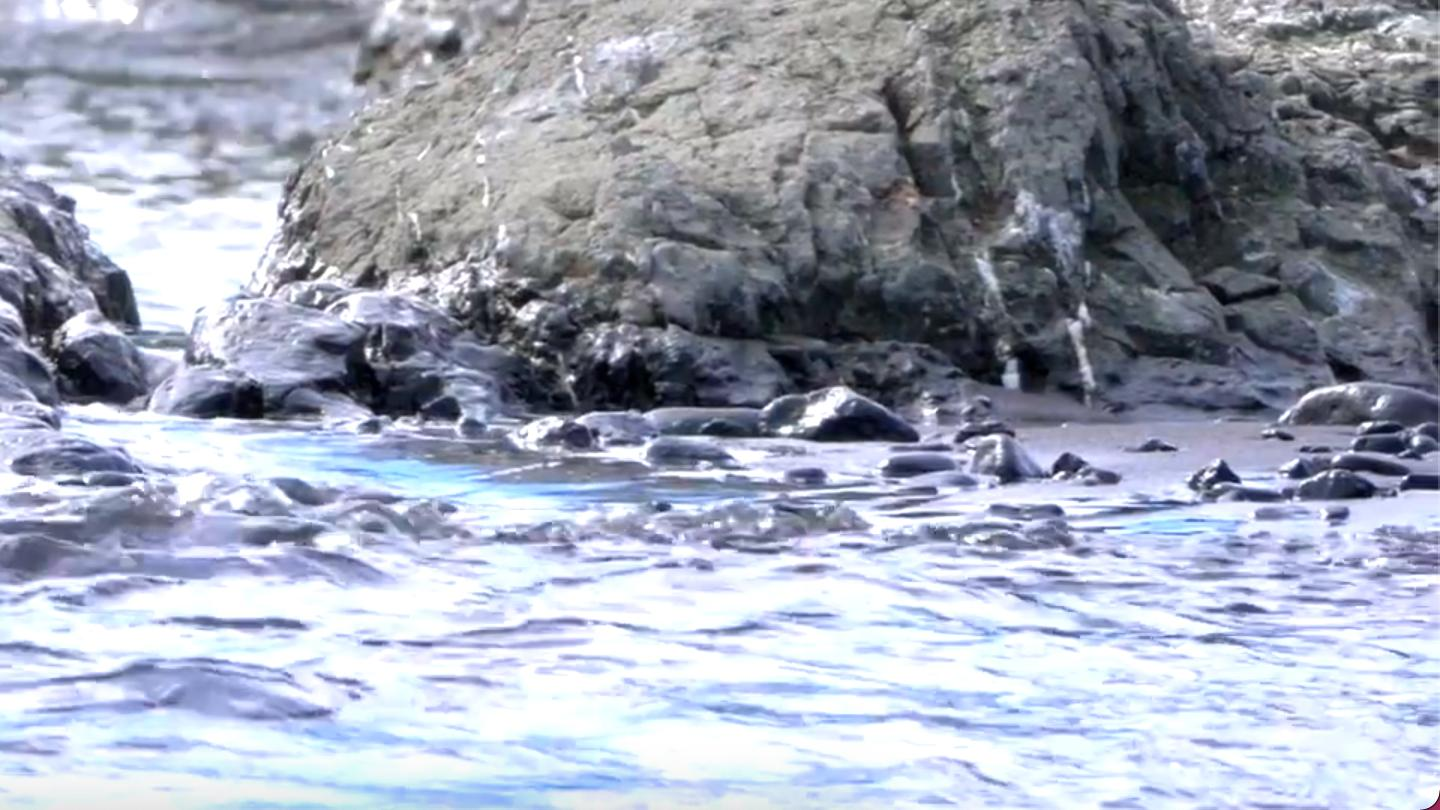Chinstrap Penguin: (0, 0, 51, 75)
